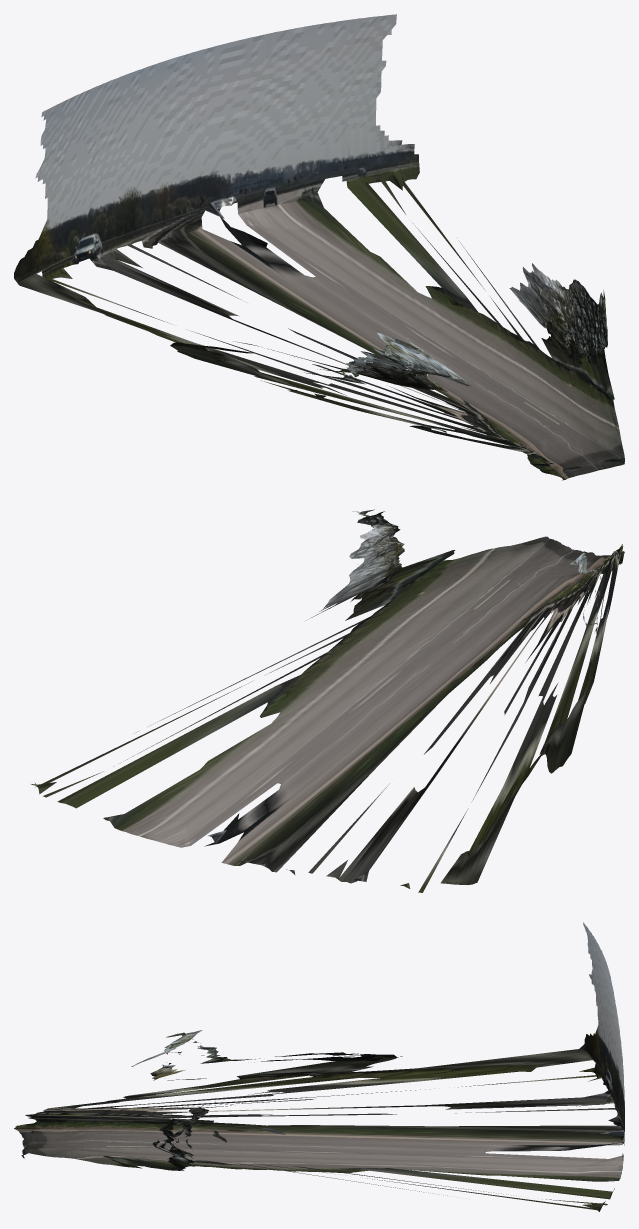
The picture shows the model from 3 angles, top to bottom: view 1: azimuth 30°, elevation 25°; view 2: azimuth 150°, elevation 25°; view 3: azimuth 270°, elevation 25°; orthographic projection. The views are drawn at different scales.
Parts seen in each view (by area): view 1: defaultobject; view 2: defaultobject; view 3: defaultobject.
Part boxes in pixels (x1,y1,x2,y2): defaultobject: (14, 14, 624, 480); defaultobject: (31, 509, 624, 892); defaultobject: (14, 922, 624, 1211).
Size of the model in its own units: 29.21 by 12.47 by 44.9.
1 material, 1 textured.
